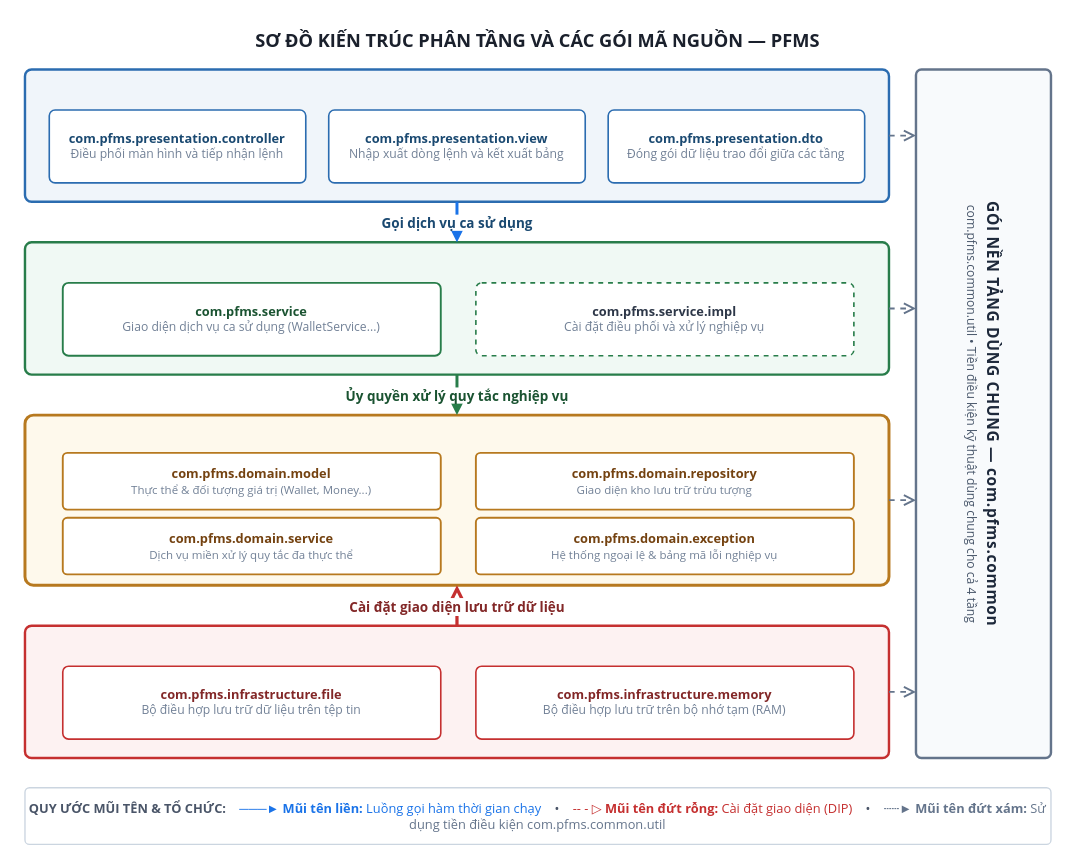
Image size: 1075x868. Some labels were removed from this diagram. The shapes that lost their labels are listed below. From the top down, each one's box as (x1, y1, x2, y2) in pixels, then its label:
(23, 68, 890, 202): TẦNG 1: TRÌNH DIỄN — com.pfms.presentation
(23, 240, 890, 375): TẦNG 2: DỊCH VỤ — com.pfms.service
(23, 413, 890, 586): TẦNG 3: NGHIỆP VỤ CỐT LÕI — com.pfms.domain
(23, 624, 890, 759): TẦNG 4: HẠ TẦNG — com.pfms.infrastructure
